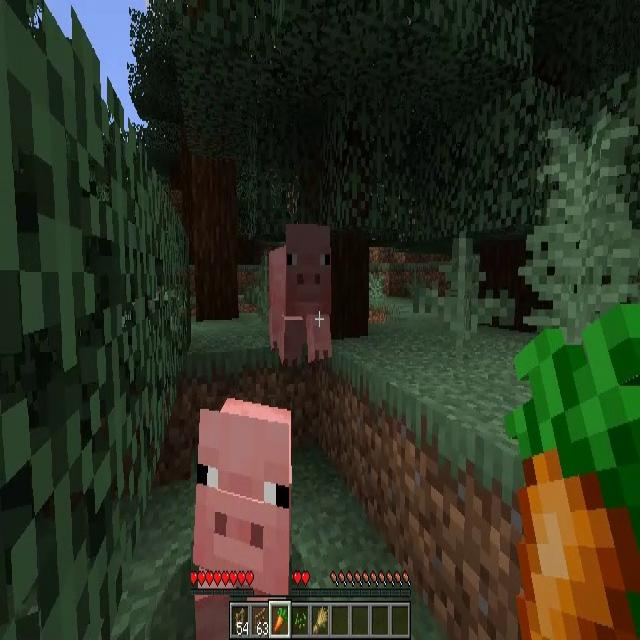pig: (191, 397, 292, 595), (266, 223, 332, 360)
